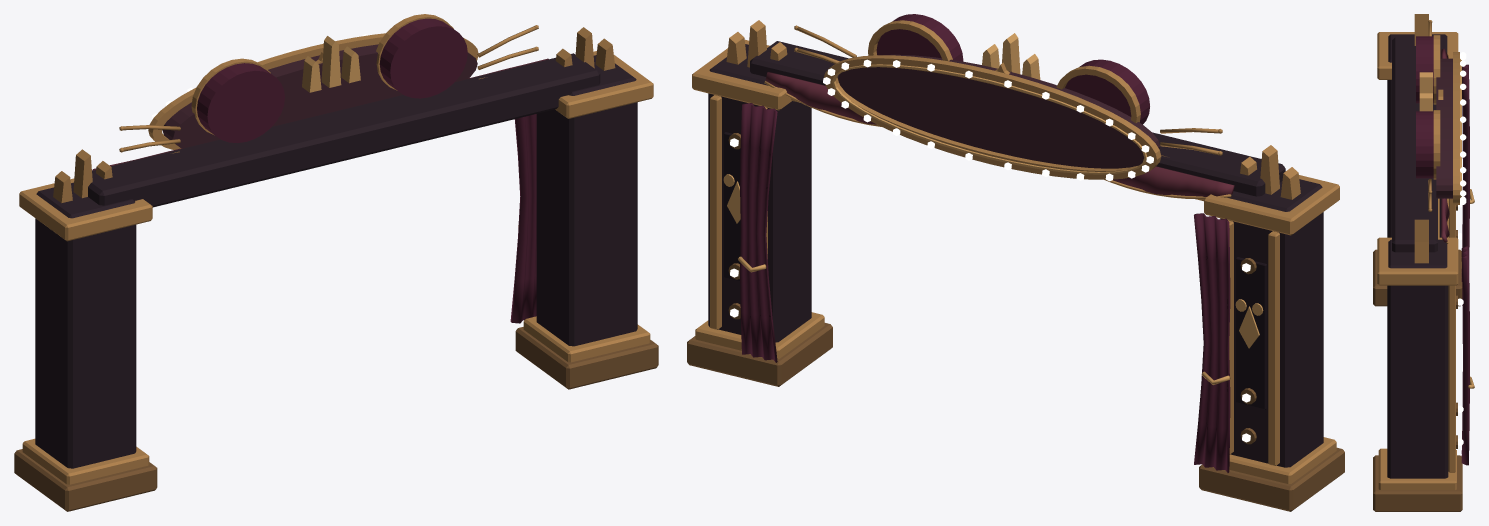
The model's file is marquee-arch.glb.
3 views of the same model, side by side, from view 1: azimuth 30°, elevation 25°; view 2: azimuth 150°, elevation 25°; view 3: azimuth 270°, elevation 25° (orthographic). The views are drawn at different scales.
Visible parts, largest first — view 1: marquee-arch; view 2: marquee-arch; view 3: marquee-arch.
Boxes of the visible parts, x1,y1,x2,y2 form: marquee-arch: (14, 14, 658, 511); marquee-arch: (687, 14, 1344, 511); marquee-arch: (1373, 14, 1474, 511).
Bounding box in the file's own units: 6.04 × 3.69 × 1.07.
